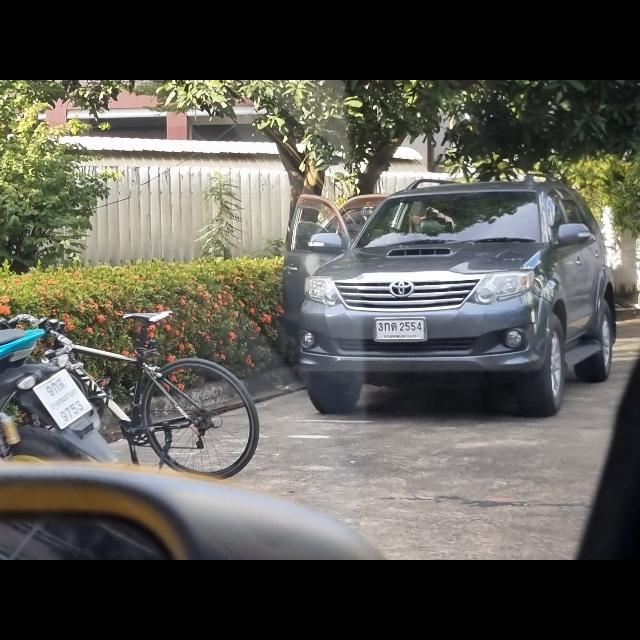licenseplate: (374, 318, 426, 342)
